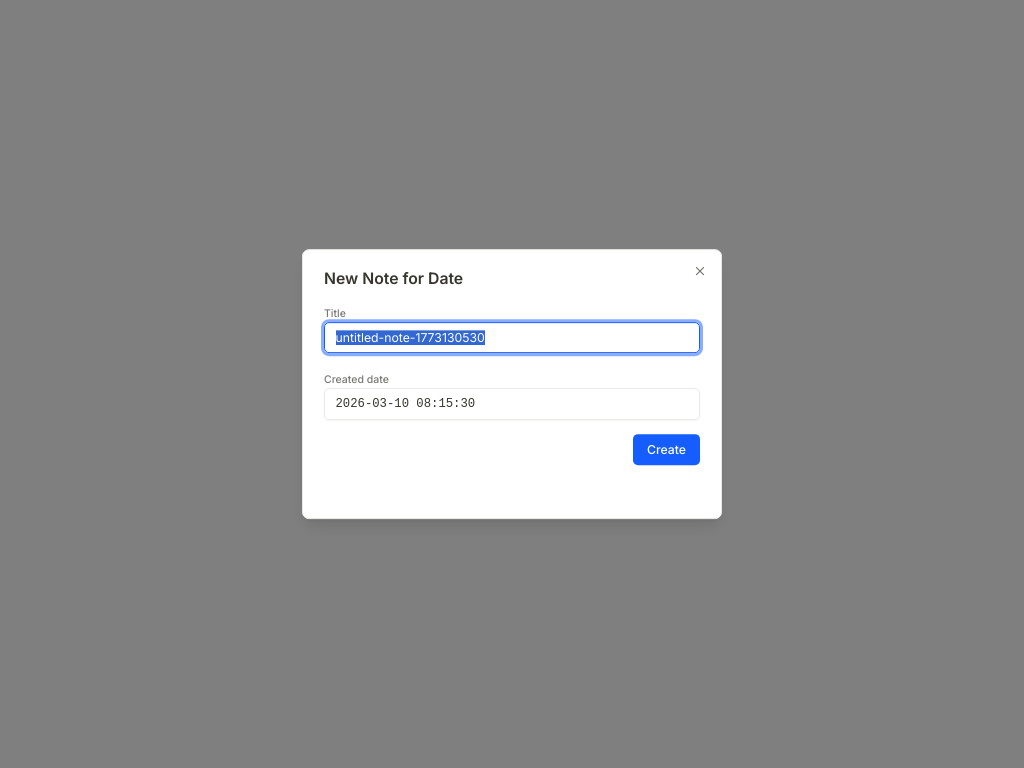
Test case: CreateNoteForDateDialog › disables Create when the title is cleared
Clear the field with placeholder "Enter note title…" at coordinates (512, 338), box [324,322,700,353]
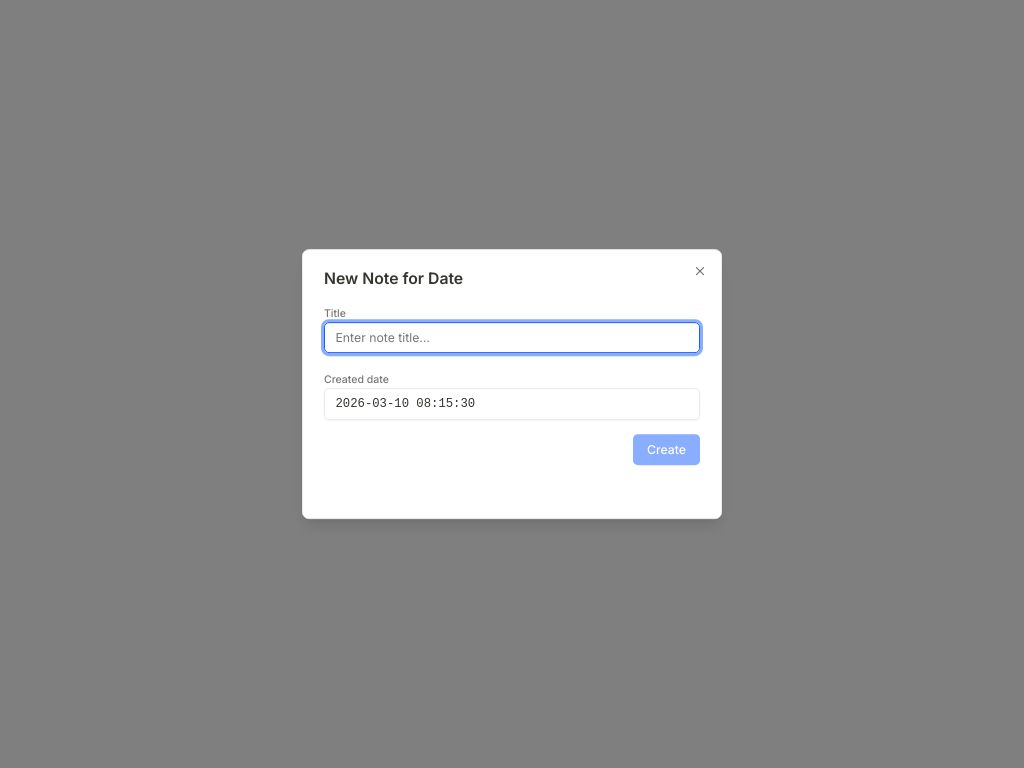
Now the button "Create" is disabled, box [633,434,700,465]
